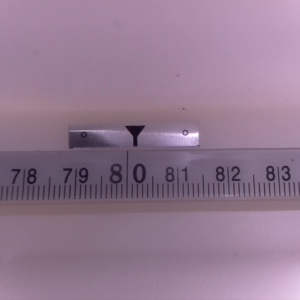0: (132, 163, 146, 183)
1: (181, 166, 188, 182)
2: (229, 166, 240, 182)
3: (279, 165, 290, 181)
7: (8, 168, 19, 184), (62, 168, 72, 184)
8: (109, 163, 122, 183), (214, 166, 225, 182), (263, 166, 274, 181), (164, 167, 174, 183), (25, 168, 35, 184)
9: (78, 167, 88, 184)
finger: (124, 125, 146, 148)
